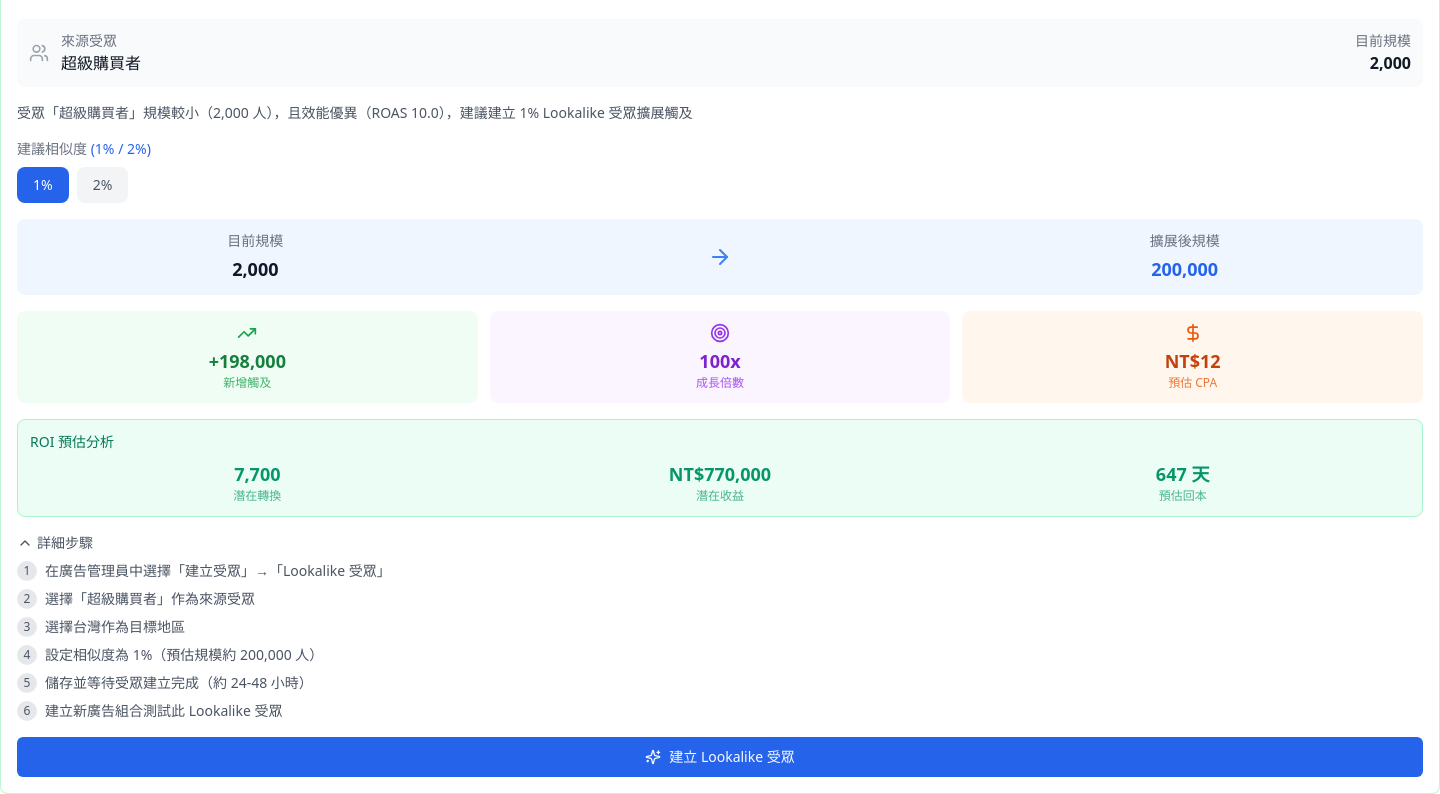
ExpansionSuggestion › create lookalike callback › should show loading state during creation
(page scrolled)
Click the button "建立 Lookalike 受眾": x=720, y=757 [17,737,1423,777]
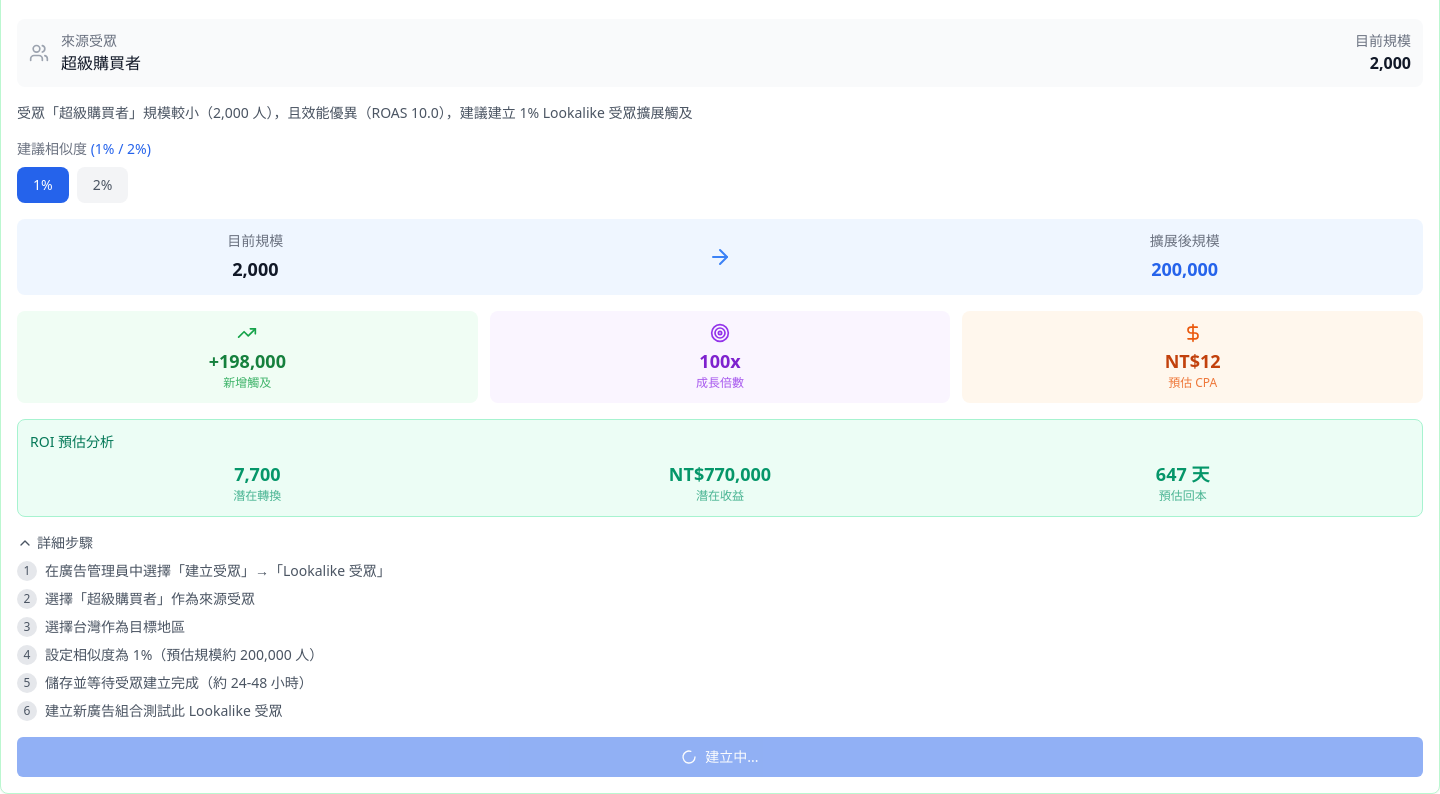
Expected: the icon with test id "create-loading" is shown, [681,749,697,765]
